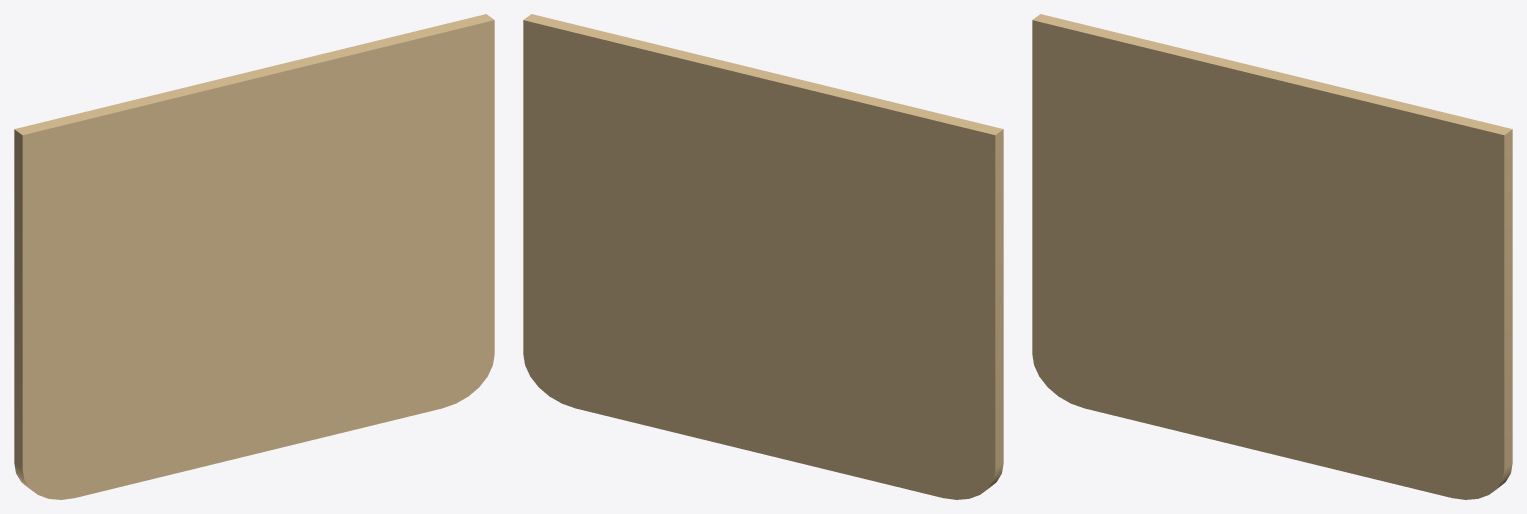
Rendered from shelf.glb.
3 renders of one model, left to right at view 1: azimuth 30°, elevation 25°; view 2: azimuth 150°, elevation 25°; view 3: azimuth 330°, elevation 25°, orthographic.
Visible parts, largest first — view 1: Floor.008; view 2: Floor.008; view 3: Floor.008.
Part boxes in pixels (x1=…): Floor.008: x1=14, y1=14, x2=494, y2=499; Floor.008: x1=523, y1=14, x2=1003, y2=499; Floor.008: x1=1032, y1=14, x2=1512, y2=499.
Bounding box in the file's own units: 1.17 × 0.8871 × 0.0357.
